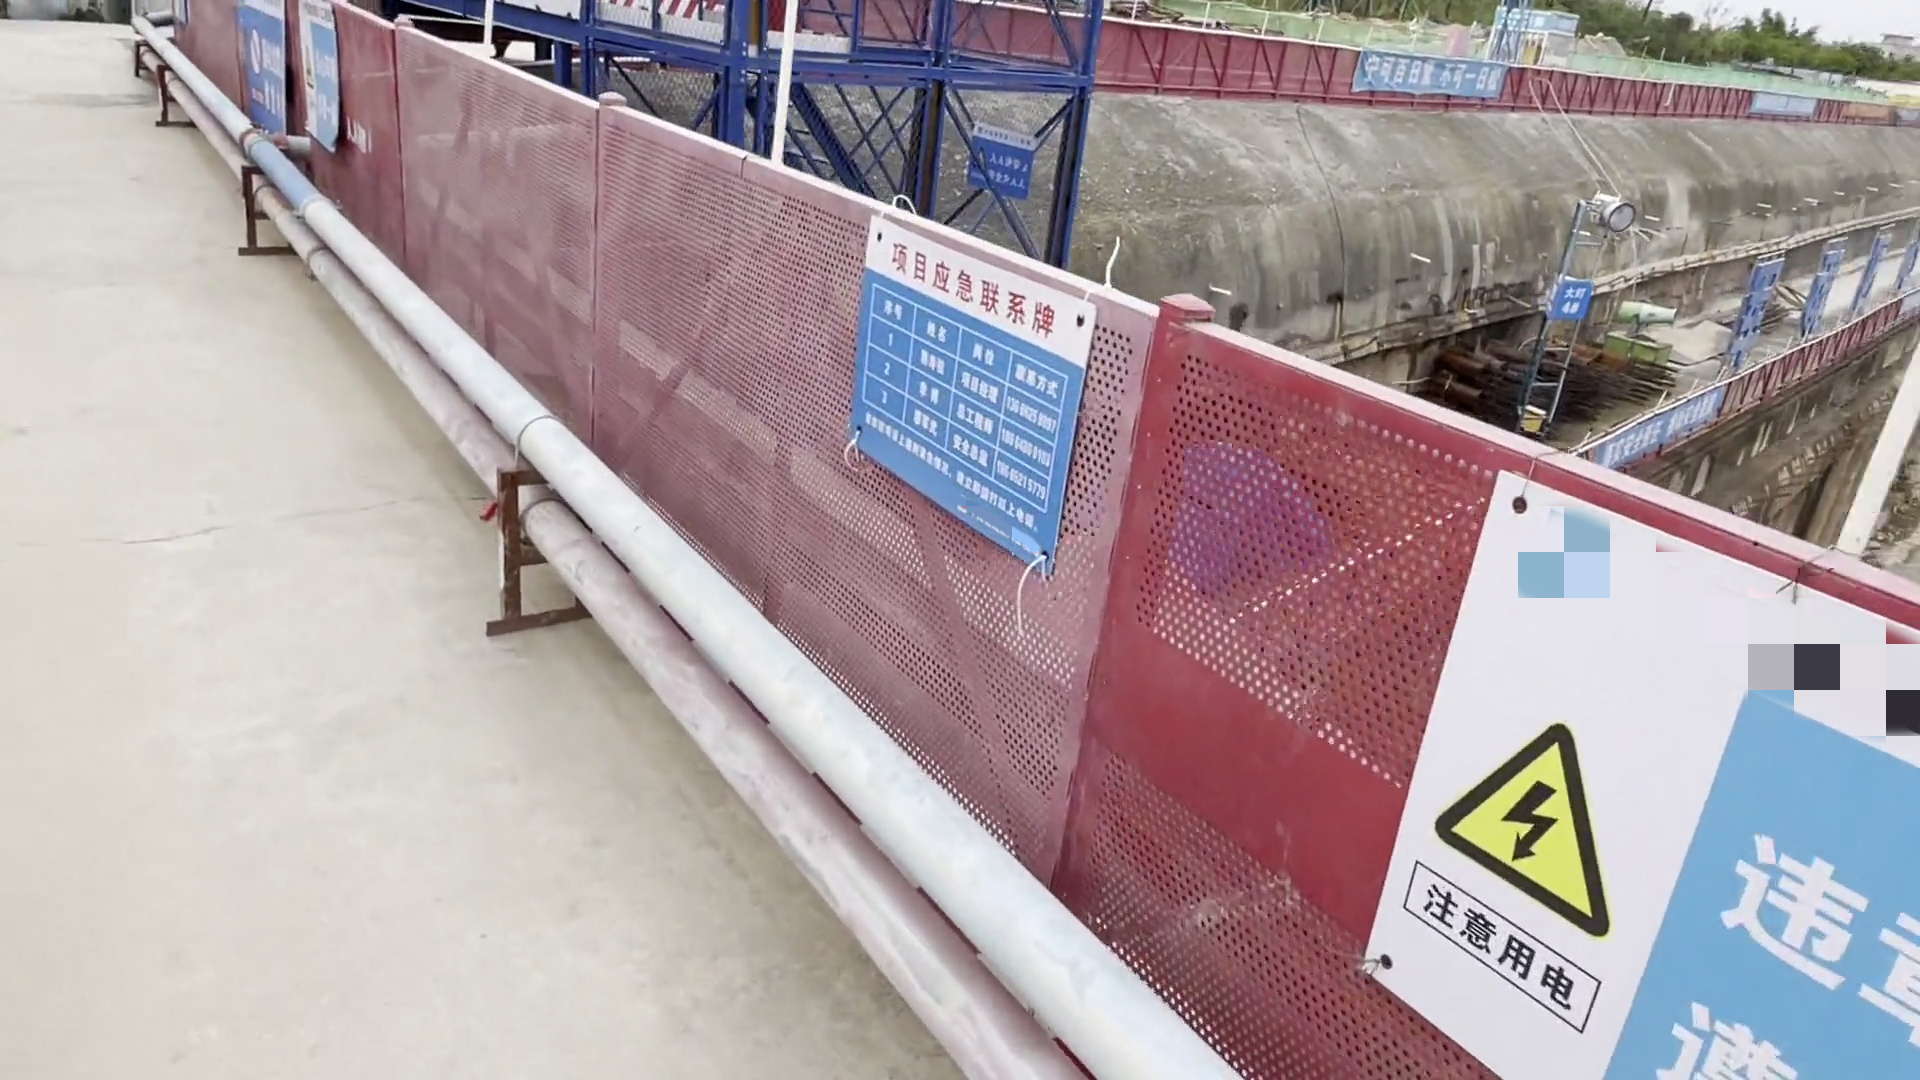slogan: (1332, 26, 1528, 102)
